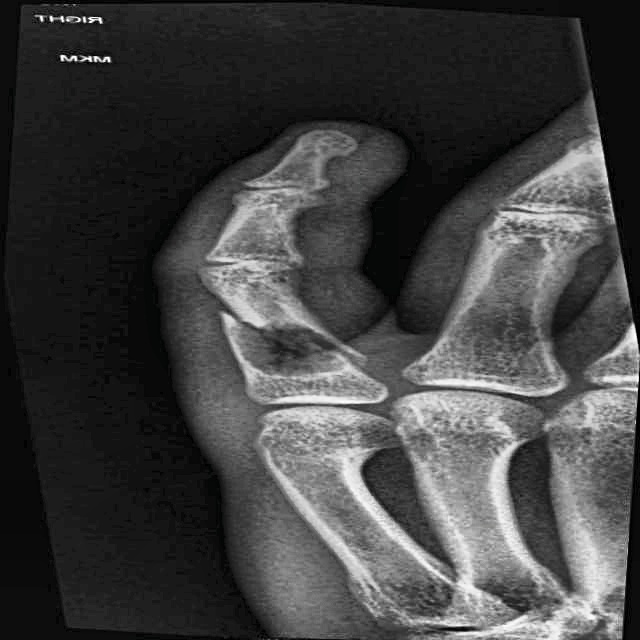Greenstick: (177, 283, 391, 406)
